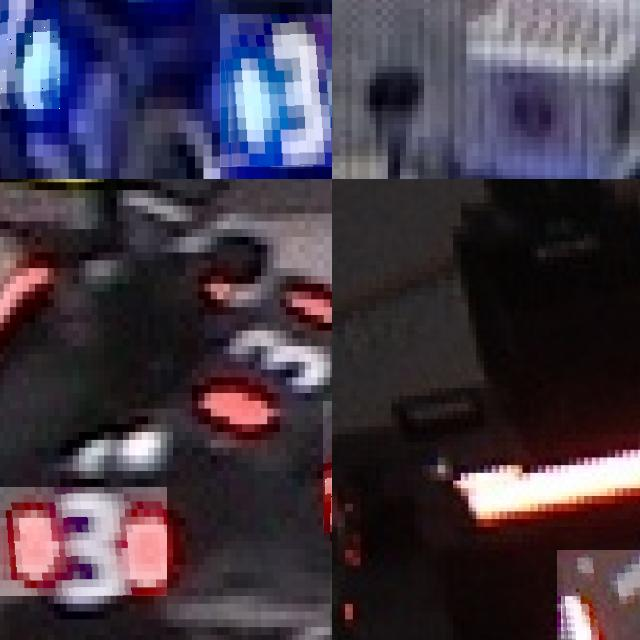B3: (220, 14, 332, 168), (0, 0, 60, 109)
R1: (557, 549, 640, 640)
R3: (210, 268, 332, 439), (0, 486, 166, 596)
